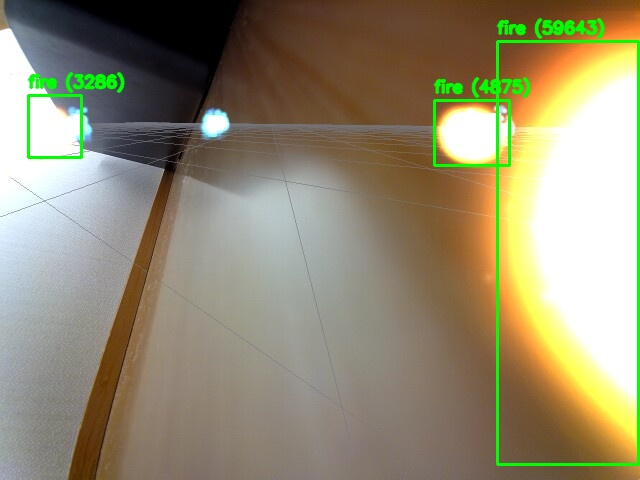fire: (497, 41, 638, 464), (434, 100, 509, 165), (28, 95, 81, 157)
